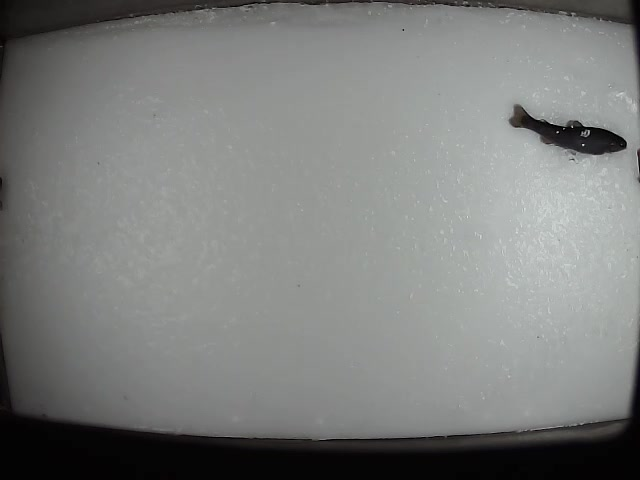Fish: (508, 103, 627, 154)
